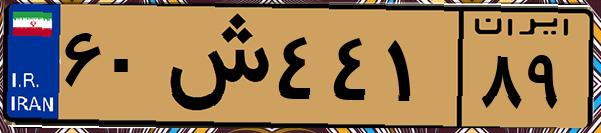0: (110, 28, 158, 98)
1: (385, 28, 445, 110)
4: (270, 28, 330, 110), (330, 28, 385, 110)
6: (57, 26, 110, 100)
8: (475, 38, 525, 113)
9: (525, 38, 570, 115)
ش: (158, 12, 270, 120)
